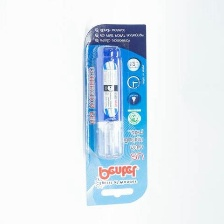book: (81, 22, 149, 207)
correction_fluid: (92, 44, 121, 160)
